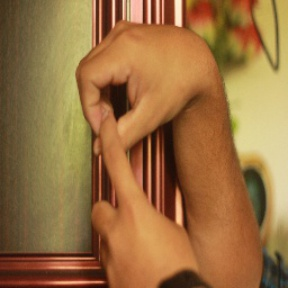Q: (73, 19, 215, 252)
